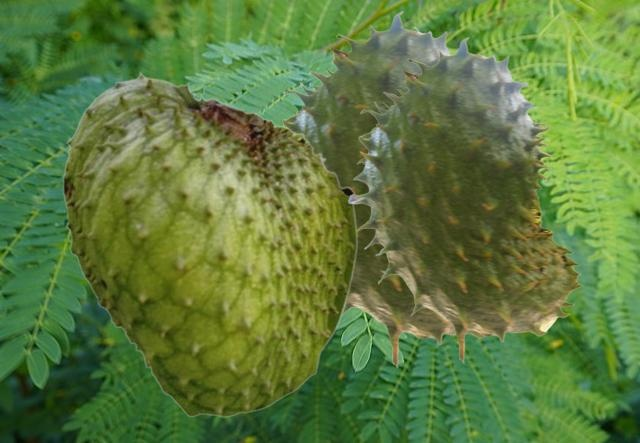guyabano: (62, 70, 357, 417), (348, 37, 581, 362), (281, 11, 485, 367)
